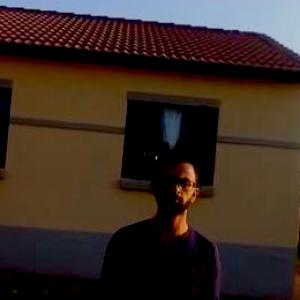follow: (92, 141, 228, 299)
